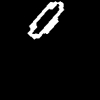chain: (28, 2, 63, 38)
